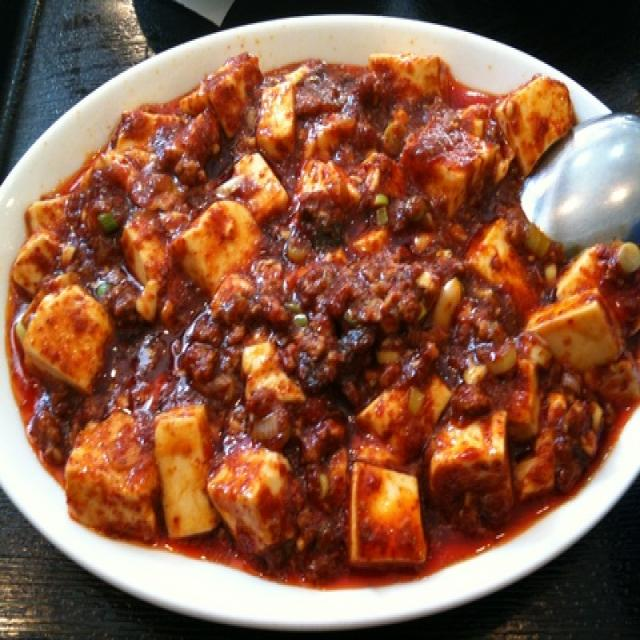豆腐料理: (0, 2, 640, 640)
